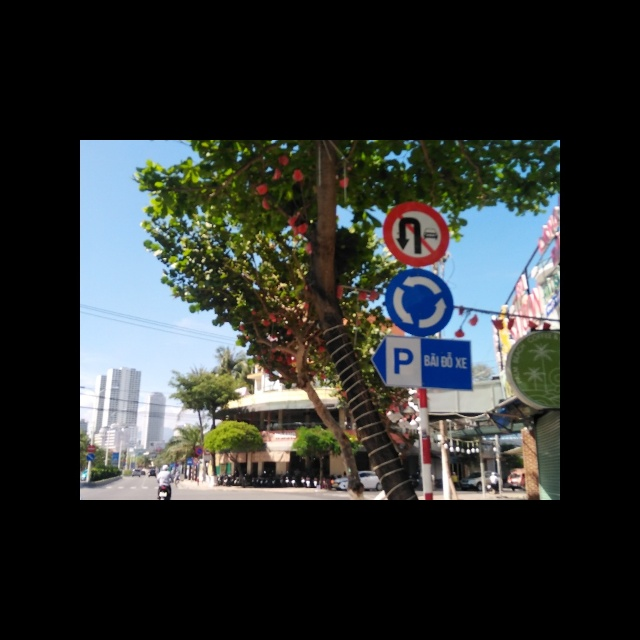Cấm xe ô tô quay đầu: (382, 201, 452, 267)
Nơi giao nhau chạy theo vòng xuyến: (386, 270, 454, 336)
Nơi đỗ xe: (370, 336, 472, 390)
